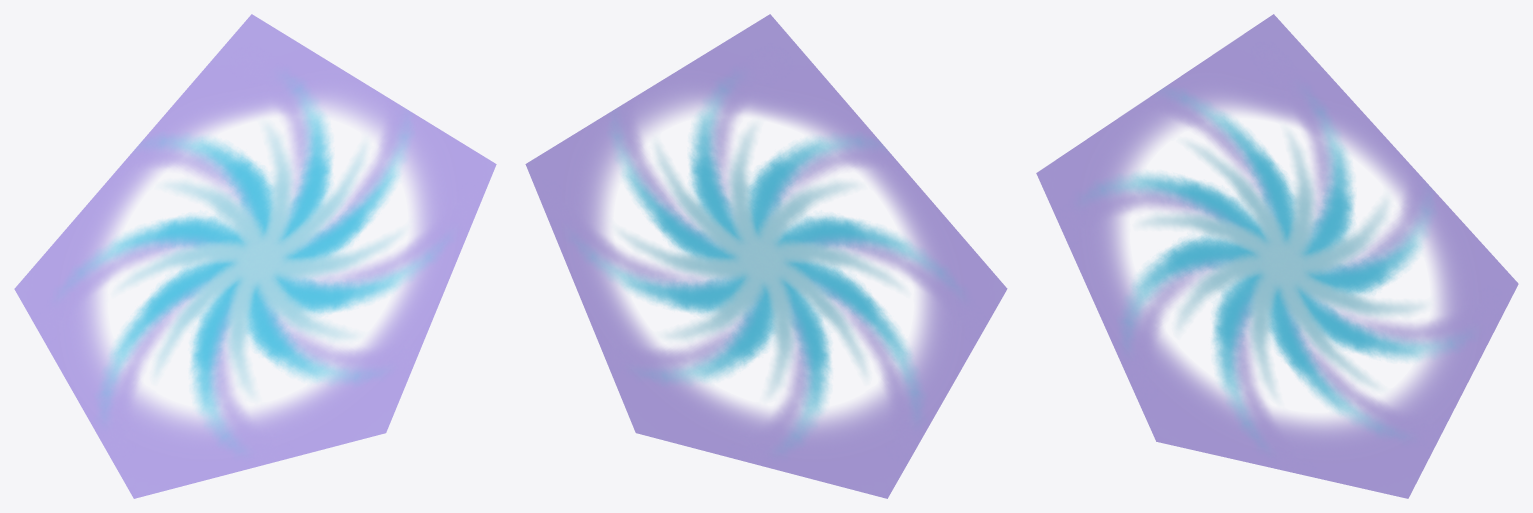
File: portalAnim00.glb
3 views of the same model, side by side, from view 1: azimuth 30°, elevation 25°; view 2: azimuth 150°, elevation 25°; view 3: azimuth 330°, elevation 25° (orthographic).
Parts seen in each view (by area): view 1: portalAnim00; view 2: portalAnim00; view 3: portalAnim00.
Boxes of the visible parts, x1,y1,x2,y2 form: portalAnim00: (14,14,496,498); portalAnim00: (525,14,1007,498); portalAnim00: (1036,14,1518,498).
Size of the model in its own units: 3.65 by 3.3 by 0.00259.
1 material, 1 textured.
